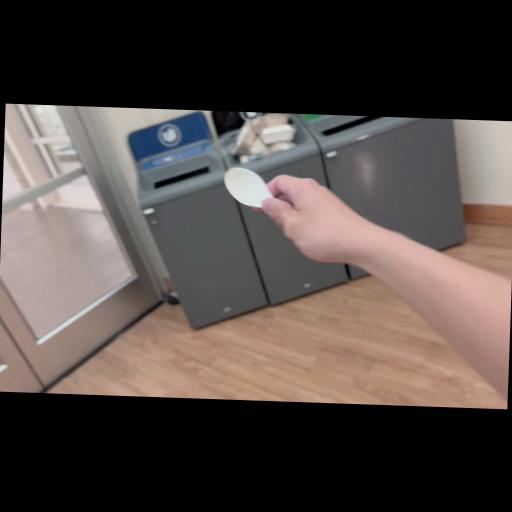utensil: (218, 163, 288, 211)
